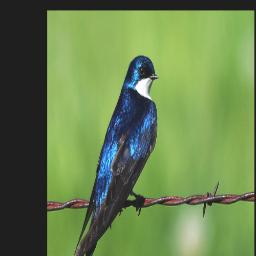Swallow: (73, 55, 159, 256)
